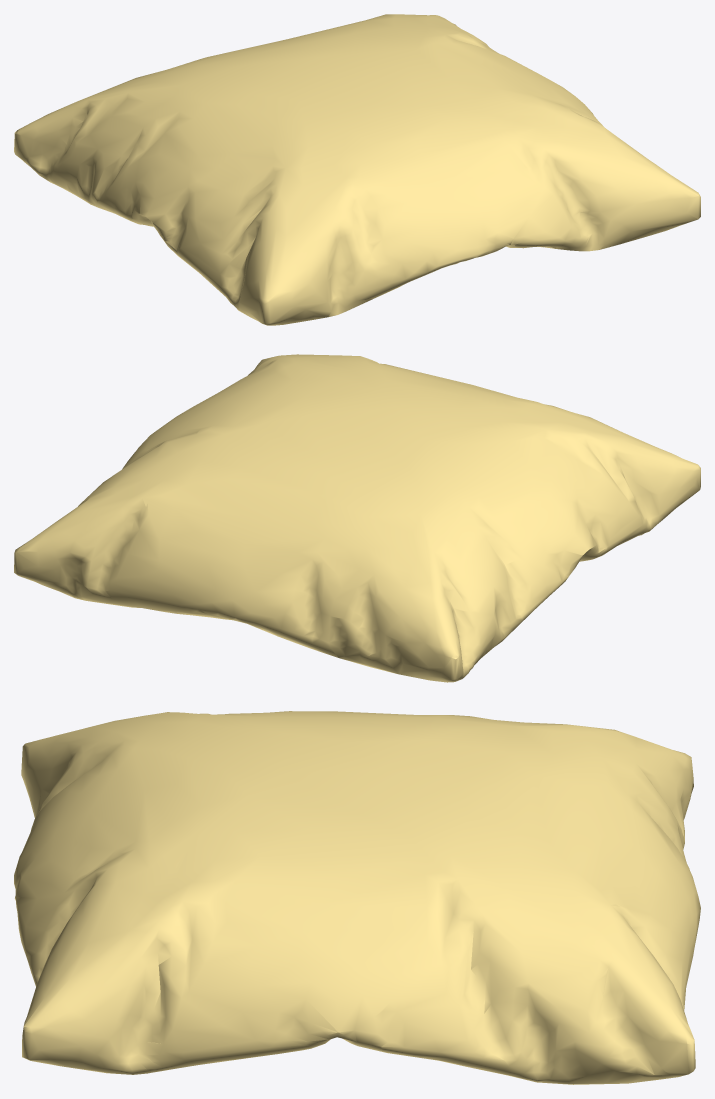
The model's file is pillowREDUCE.fbx.
3 views of the same model, one above another, from view 1: azimuth 30°, elevation 25°; view 2: azimuth 150°, elevation 25°; view 3: azimuth 270°, elevation 25° (orthographic). The views are drawn at different scales.
Parts seen in each view (by area): view 1: Empty_Mesh; view 2: Empty_Mesh; view 3: Empty_Mesh.
Part boxes in pixels (box(x1,y1,x2,y2)): Empty_Mesh: box(14, 14, 700, 325); Empty_Mesh: box(14, 354, 700, 682); Empty_Mesh: box(14, 711, 700, 1084).
Size of the model in its own units: 19422 by 5489 by 19343.
